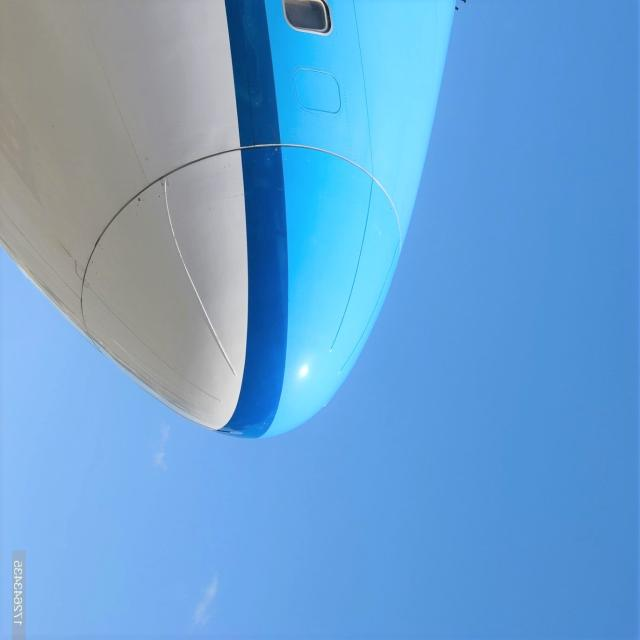Rupture: (68, 261, 90, 281)
